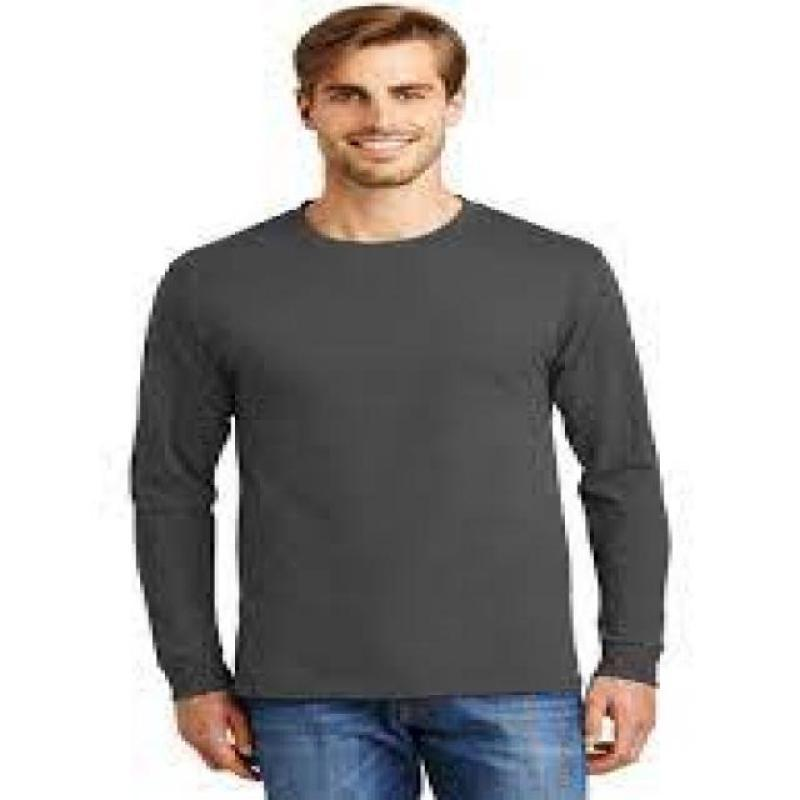long sleeve shirt: (130, 196, 672, 700)
trousers: (245, 692, 589, 800)
